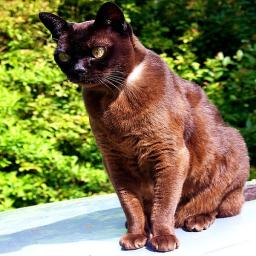catnose: (71, 63, 89, 76)
